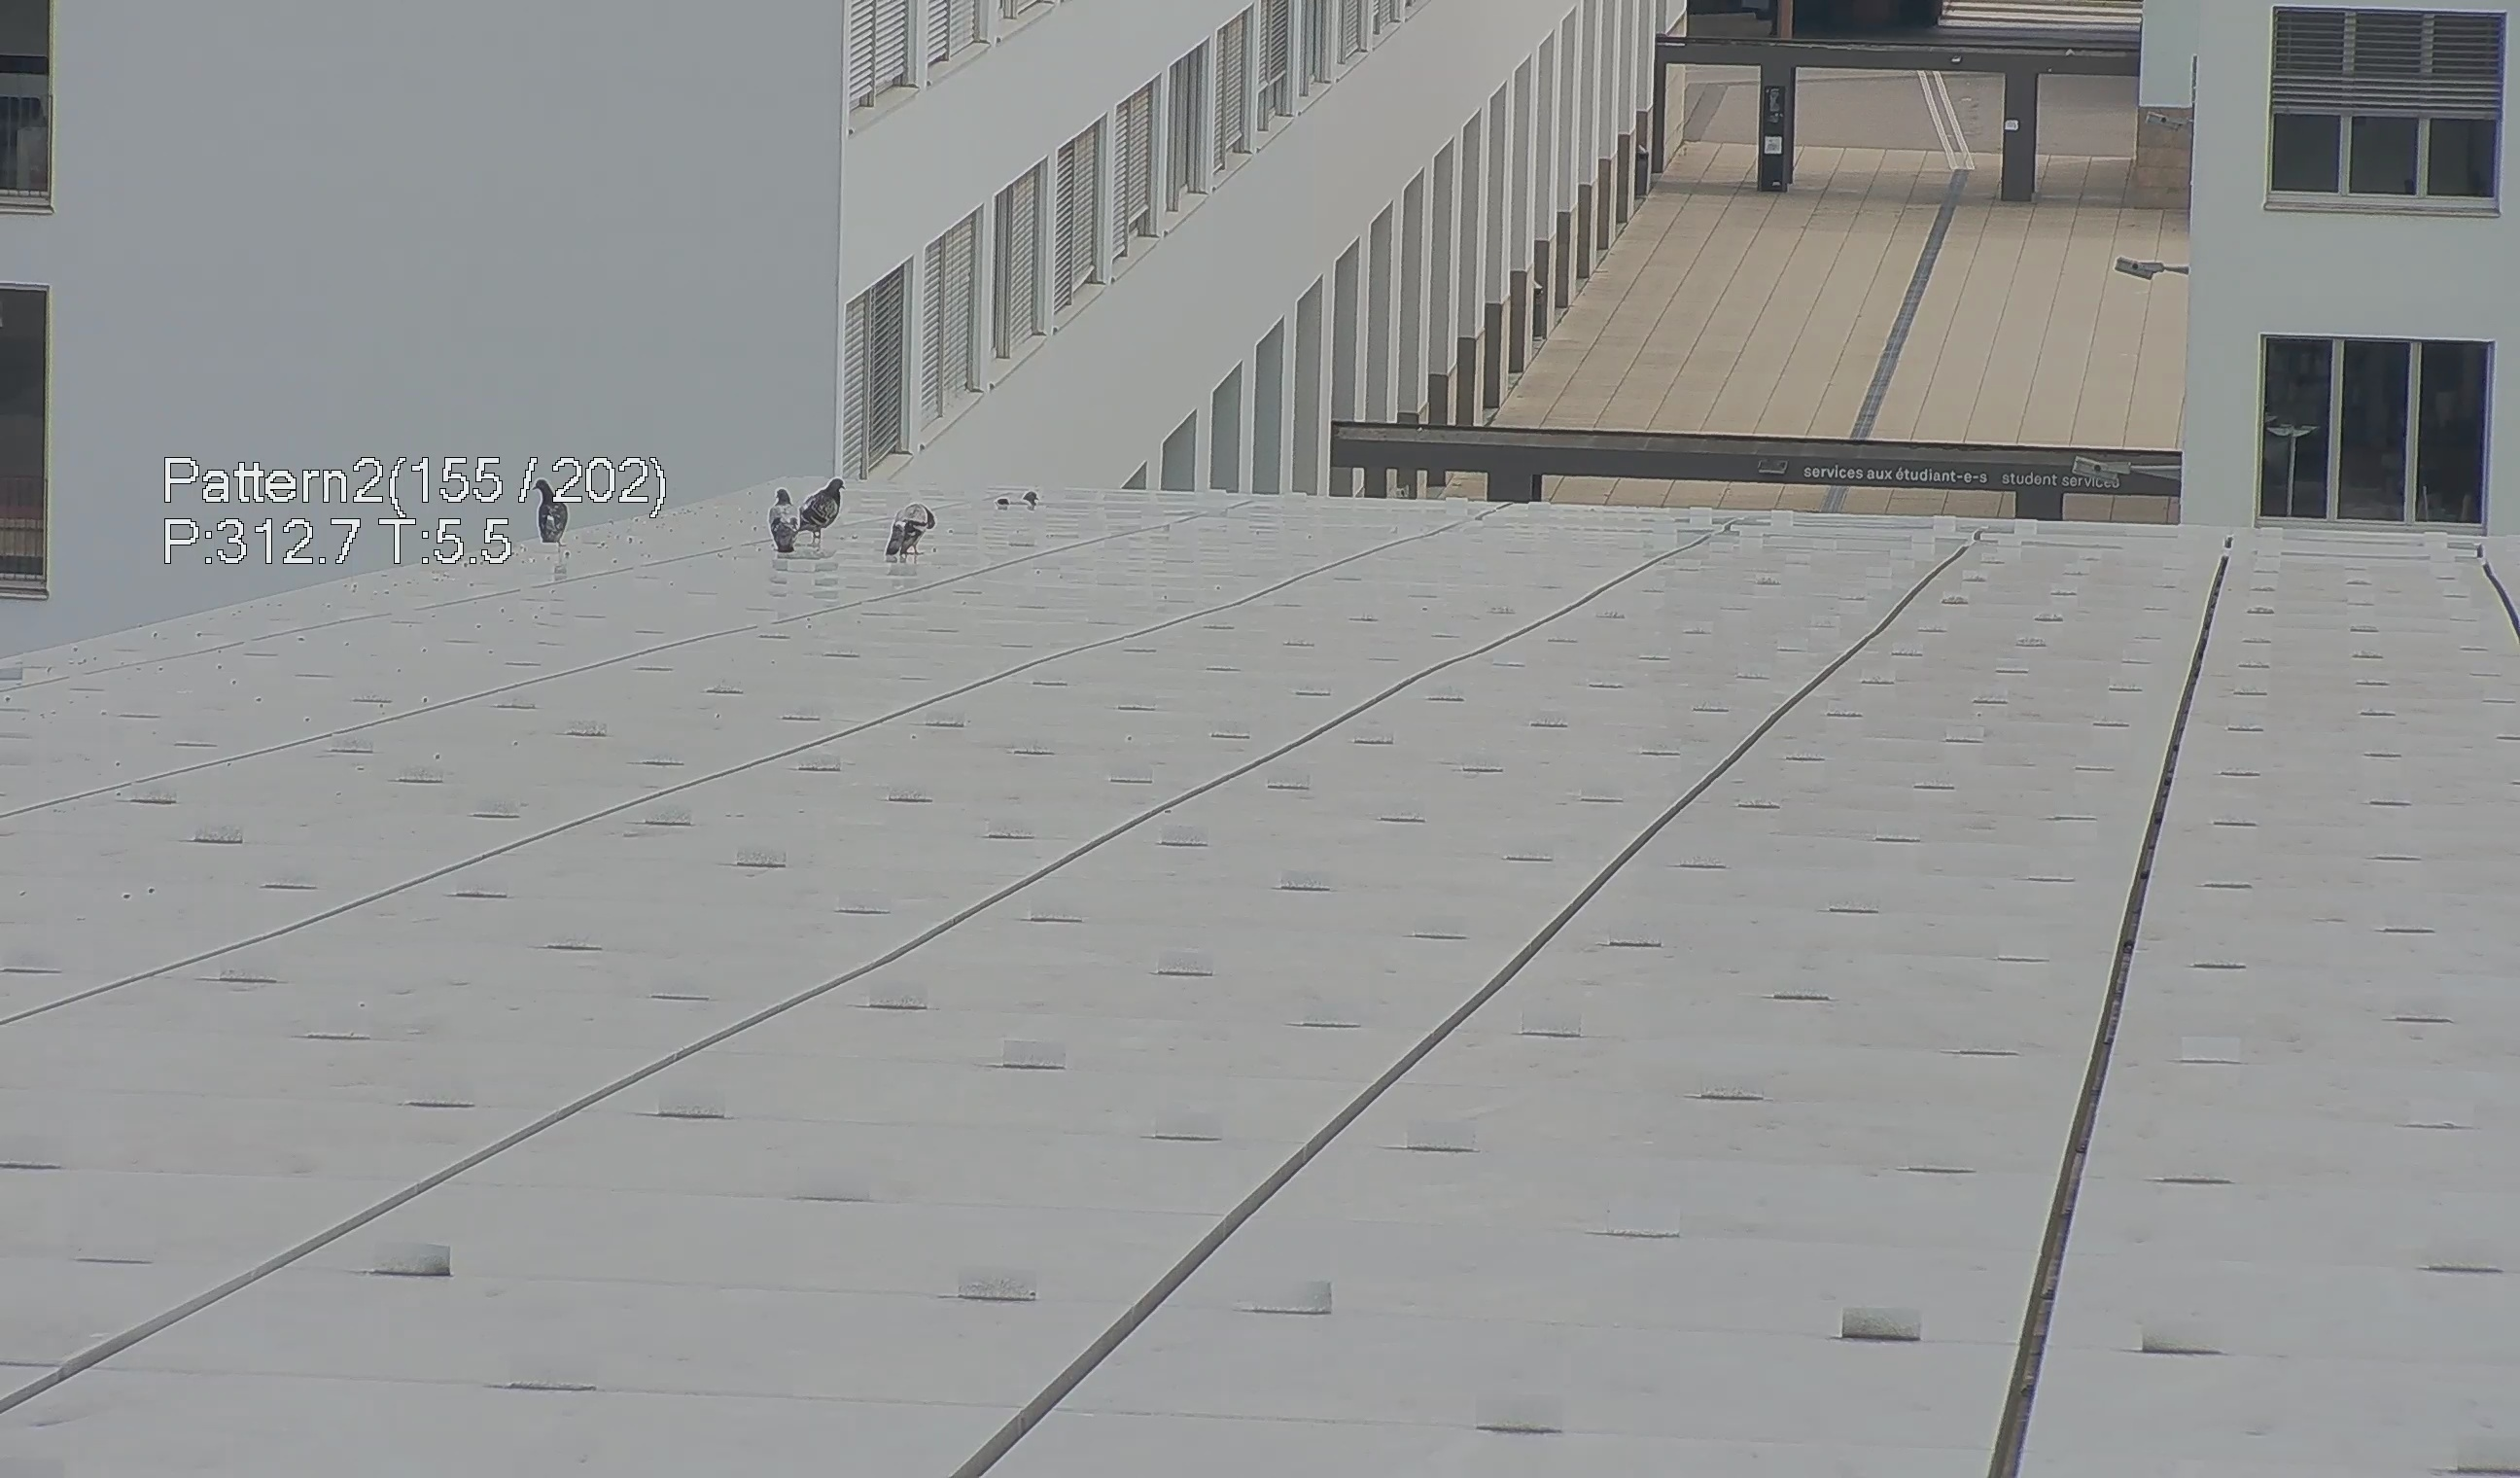Pigeon: (878, 503, 944, 563), (797, 475, 853, 544), (756, 484, 809, 556), (528, 468, 572, 549), (988, 487, 1041, 512)
